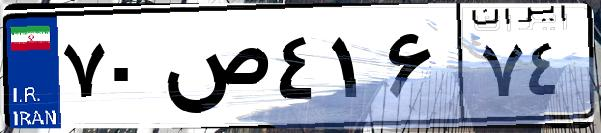0: (110, 28, 158, 98)
1: (330, 28, 385, 110)
4: (270, 28, 330, 110), (525, 38, 570, 115)
6: (385, 28, 445, 110)
7: (57, 26, 110, 100), (475, 38, 525, 113)
ص: (158, 20, 270, 120)
